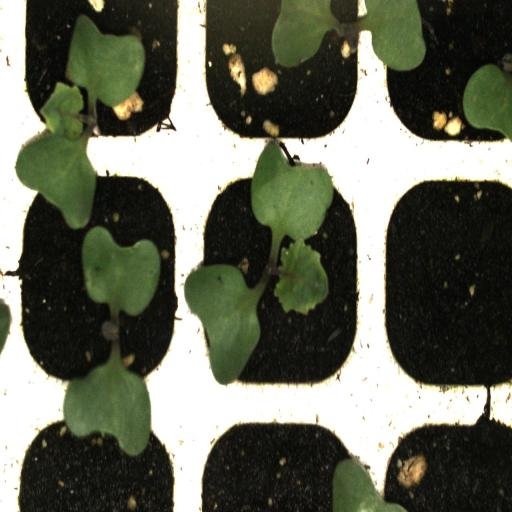Folha: (251, 142, 335, 315), (184, 264, 264, 386), (63, 352, 151, 458), (268, 0, 337, 69), (462, 64, 512, 141)
Germinacao: (190, 159, 371, 406), (10, 157, 188, 402), (0, 0, 190, 156), (192, 0, 370, 160)
